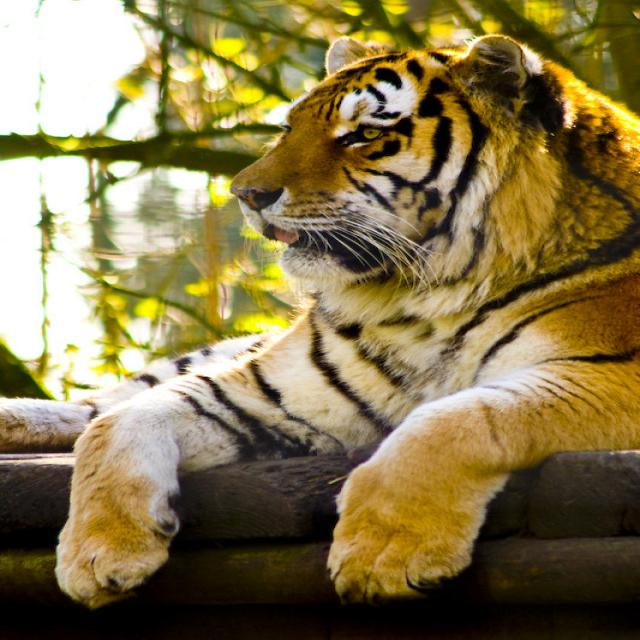Tiger: (1, 32, 638, 606)
